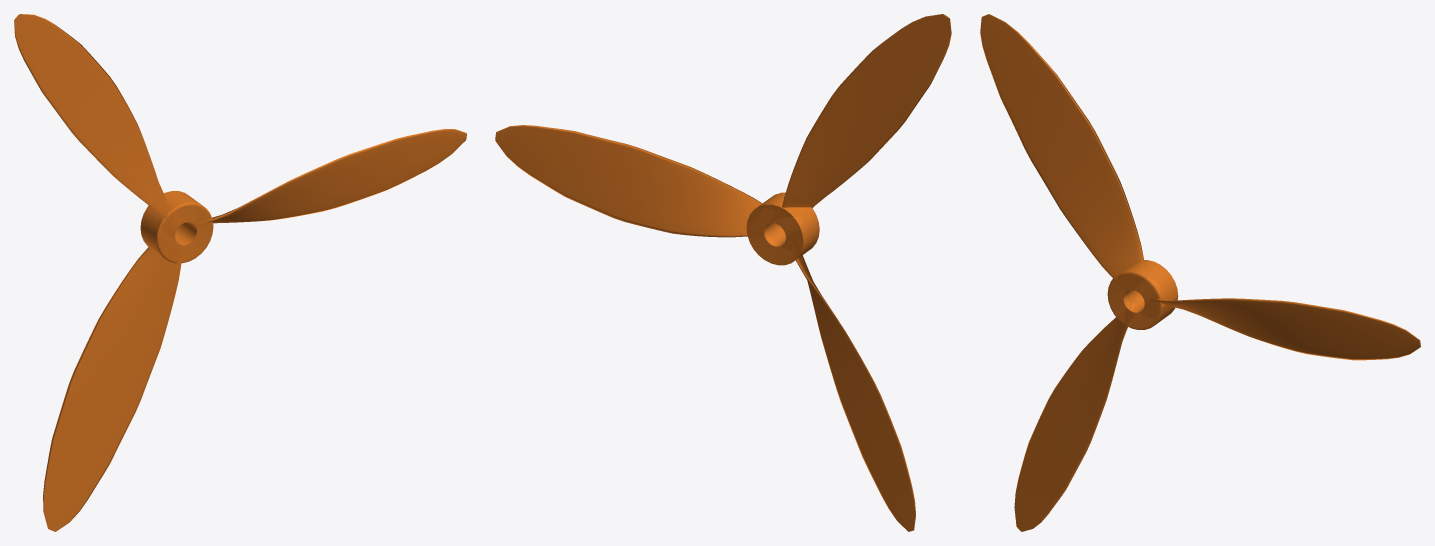
Rendered from gemfan-51466-v2.glb.
The picture shows the model from 3 angles, left to right: view 1: azimuth 30°, elevation 25°; view 2: azimuth 150°, elevation 25°; view 3: azimuth 330°, elevation 25°; orthographic projection. The views are drawn at different scales.
Visible parts, largest first — view 1: blade_3, blade_2, blade_1, hub; view 2: blade_1, blade_2, blade_3, hub; view 3: blade_2, blade_3, blade_1, hub.
Boxes of the visible parts, bbox=[...] form: blade_3: bbox=[43, 247, 182, 531]; blade_2: bbox=[14, 14, 170, 223]; blade_1: bbox=[205, 129, 466, 223]; hub: bbox=[140, 191, 213, 263]; blade_1: bbox=[495, 125, 762, 237]; blade_2: bbox=[782, 14, 951, 207]; blade_3: bbox=[796, 255, 915, 531]; hub: bbox=[746, 192, 819, 265]; blade_2: bbox=[980, 14, 1143, 283]; blade_3: bbox=[1014, 317, 1130, 531]; blade_1: bbox=[1153, 298, 1420, 360]; hub: bbox=[1107, 260, 1178, 329].
Bounding box in the file's own units: 104 × 115 × 8.2.
